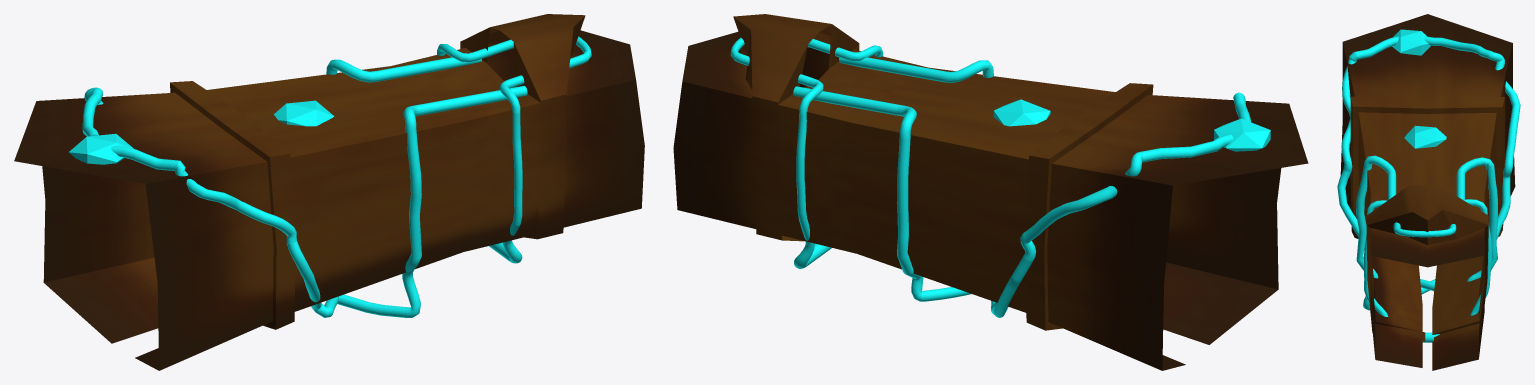
File: Gauntlet.fbx
3 renders of one model, left to right at view 1: azimuth 30°, elevation 25°; view 2: azimuth 150°, elevation 25°; view 3: azimuth 270°, elevation 25°, orthographic. The views are drawn at different scales.
Visible parts, largest first — view 1: Gauntlet2; view 2: Gauntlet2; view 3: Gauntlet2.
Boxes of the visible parts, x1,y1,x2,y2 form: Gauntlet2: (14,14,644,370); Gauntlet2: (673,14,1308,370); Gauntlet2: (1337,14,1520,370).
Bounding box in the file's own units: 4.99 × 1.79 × 1.7.
